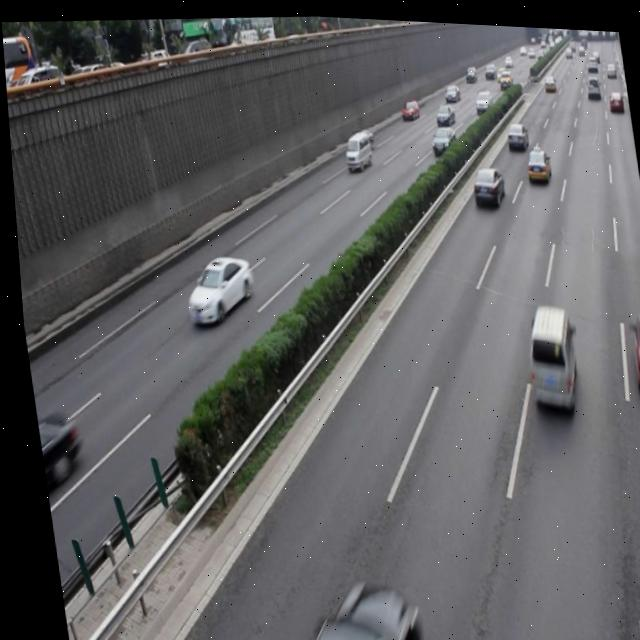car: (175, 251, 254, 329), (621, 307, 640, 397), (466, 161, 503, 205), (520, 141, 549, 180)
truck: (514, 298, 576, 413)
